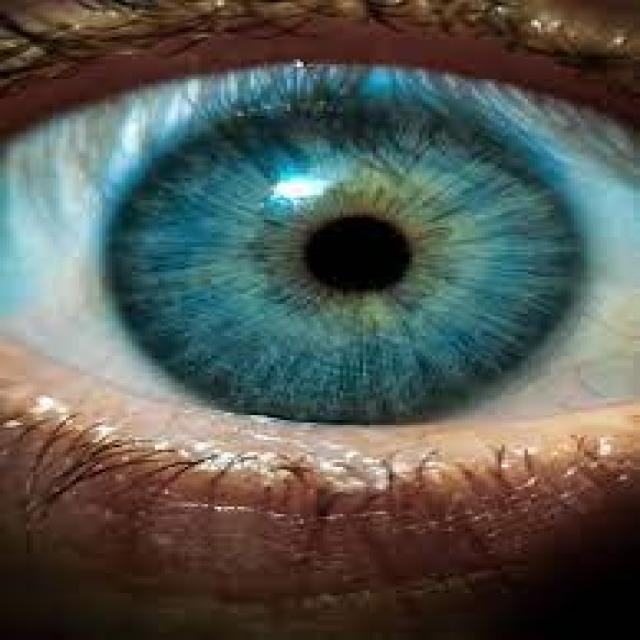Eyes-iris: (90, 86, 610, 430)
